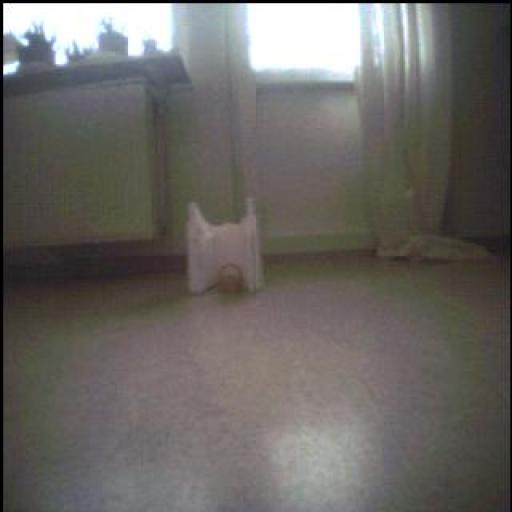Basket: (214, 263, 245, 297)
